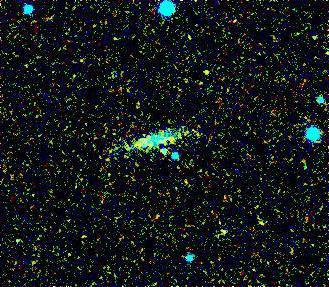star: (190, 58, 220, 88)
